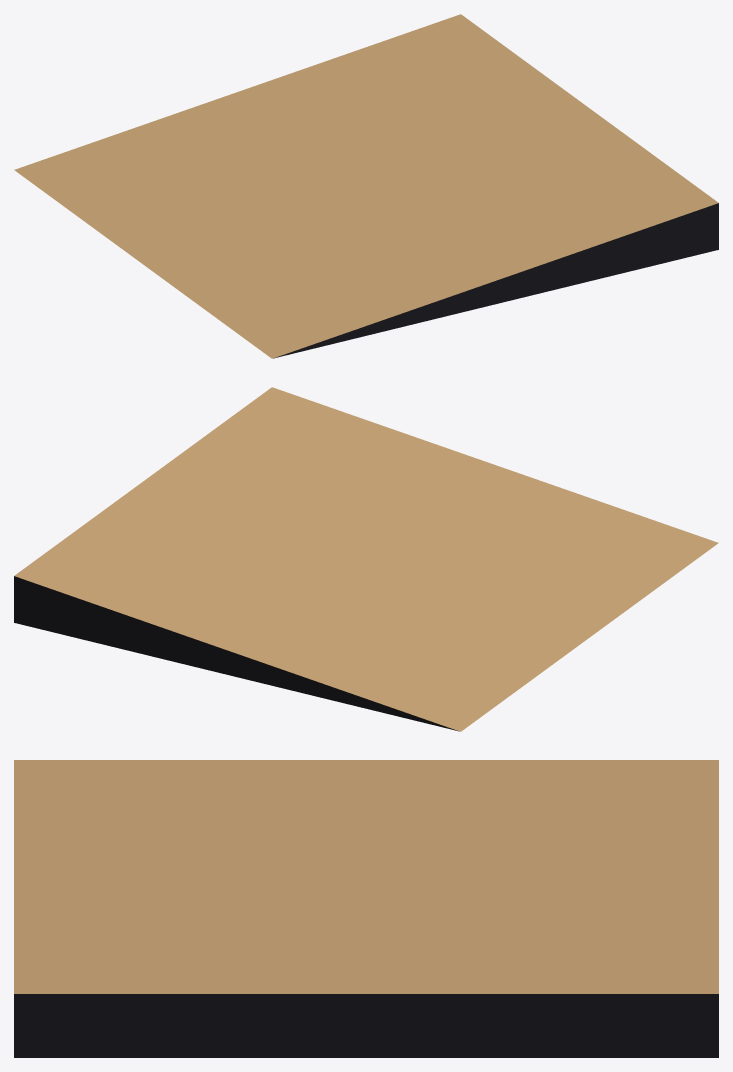
Rendered from Ramp_1.fbx.
3 renders of one model, top to bottom at view 1: azimuth 30°, elevation 25°; view 2: azimuth 150°, elevation 25°; view 3: azimuth 270°, elevation 25°, orthographic. The views are drawn at different scales.
Visible parts, largest first — view 1: Ramp_1; view 2: Ramp_1; view 3: Ramp_1.
Part boxes in pixels (box(x1,y1,x2,y2)): Ramp_1: box(14, 14, 718, 358); Ramp_1: box(14, 387, 718, 731); Ramp_1: box(14, 760, 718, 1057).
Size of the model in its own units: 10 by 1 by 10.
